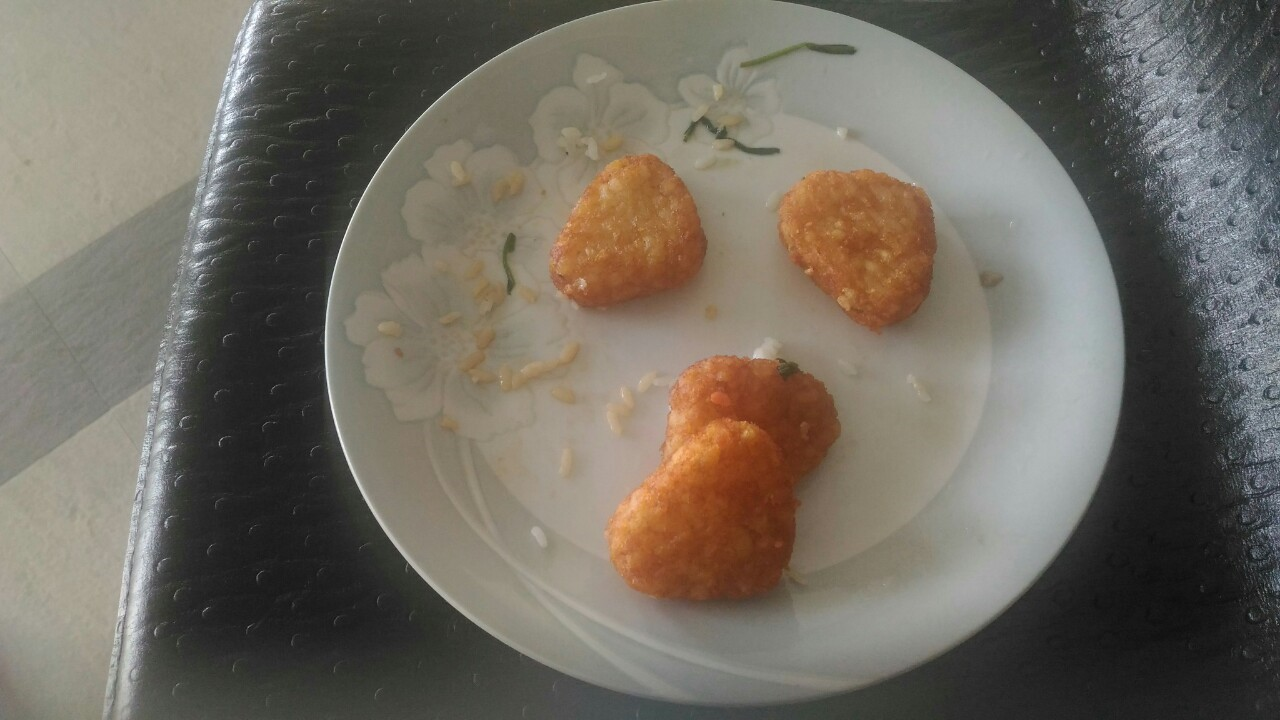triangle_hash_brown: (612, 352, 841, 607), (550, 147, 704, 311), (782, 169, 936, 331)
